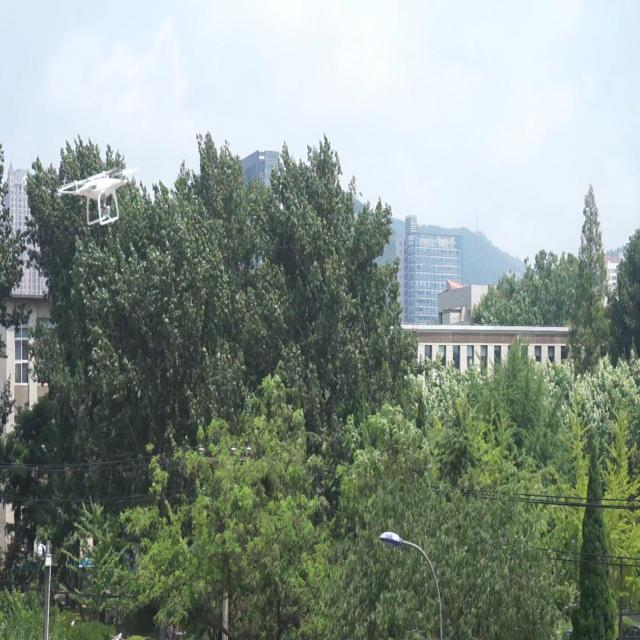UAV: (58, 167, 140, 226)
